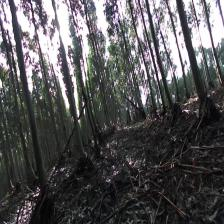trunk: (16, 48, 52, 203), (56, 26, 86, 162), (176, 5, 204, 92), (130, 7, 152, 88), (152, 37, 174, 108), (205, 11, 223, 84)
